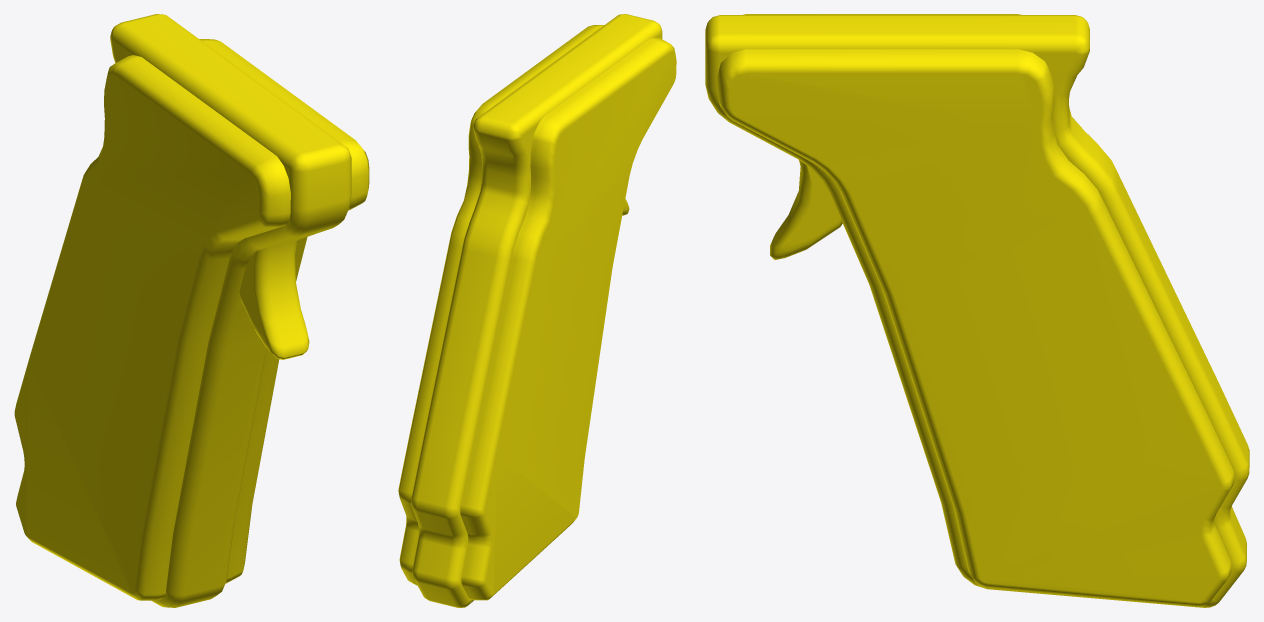
The model's file is part_gripp_01.fbx.
The picture shows the model from 3 angles, left to right: view 1: azimuth 30°, elevation 25°; view 2: azimuth 150°, elevation 25°; view 3: azimuth 270°, elevation 25°; orthographic projection. The views are drawn at different scales.
Visible parts, largest first — view 1: part_gripp_01; view 2: part_gripp_01; view 3: part_gripp_01.
Boxes of the visible parts, x1,y1,x2,y2 form: part_gripp_01: [14, 14, 369, 607]; part_gripp_01: [398, 14, 676, 607]; part_gripp_01: [705, 14, 1249, 607].
Size of the model in its own units: 3.77 by 18.62 by 16.03.
